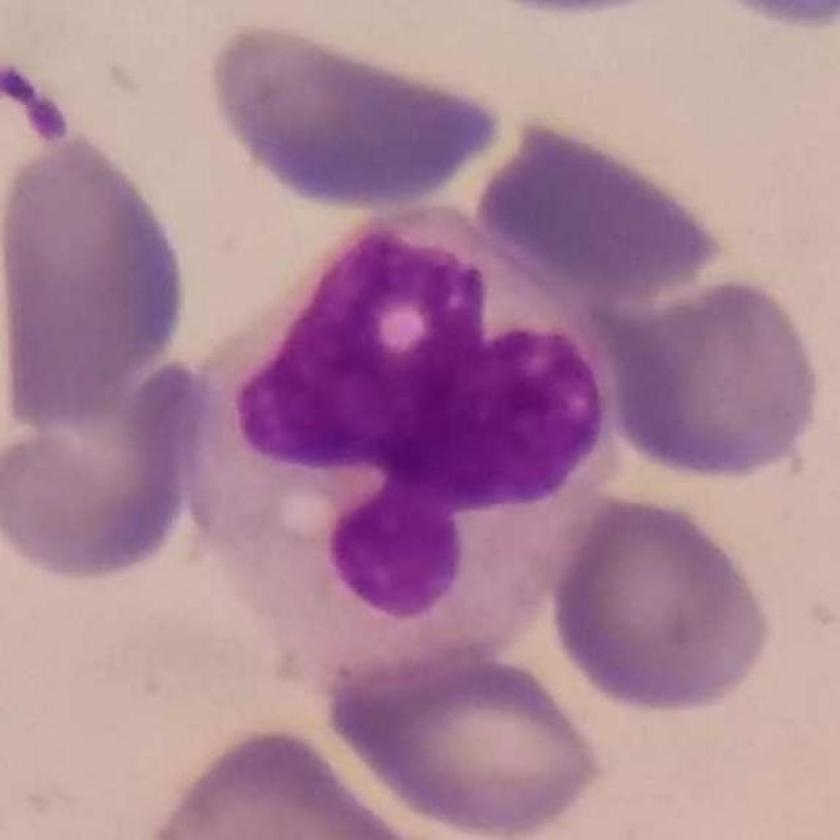monocyte: (169, 181, 636, 693)
